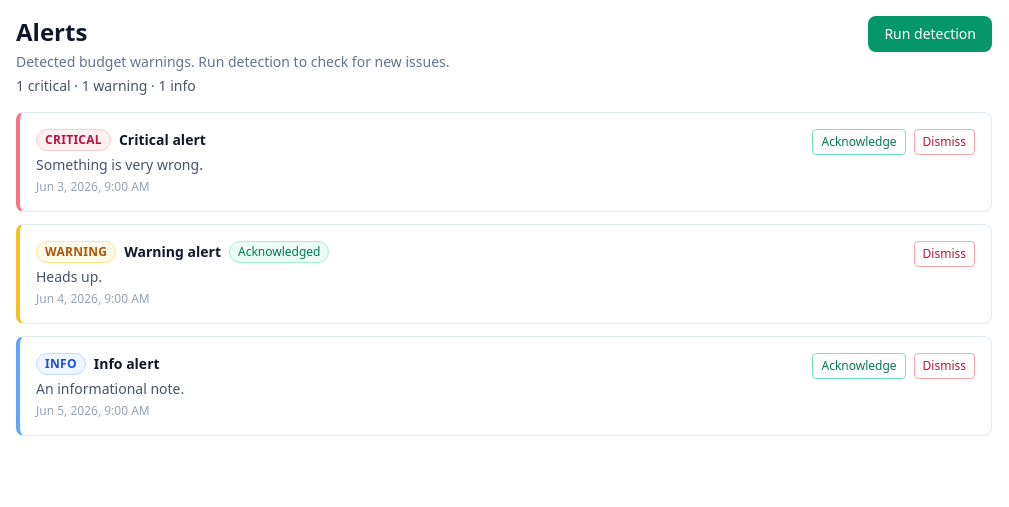
Test: AlertsPage › runs detection and surfaces the server count message
Click the button "Run detection" at point(930, 34), box [868,16,992,52]
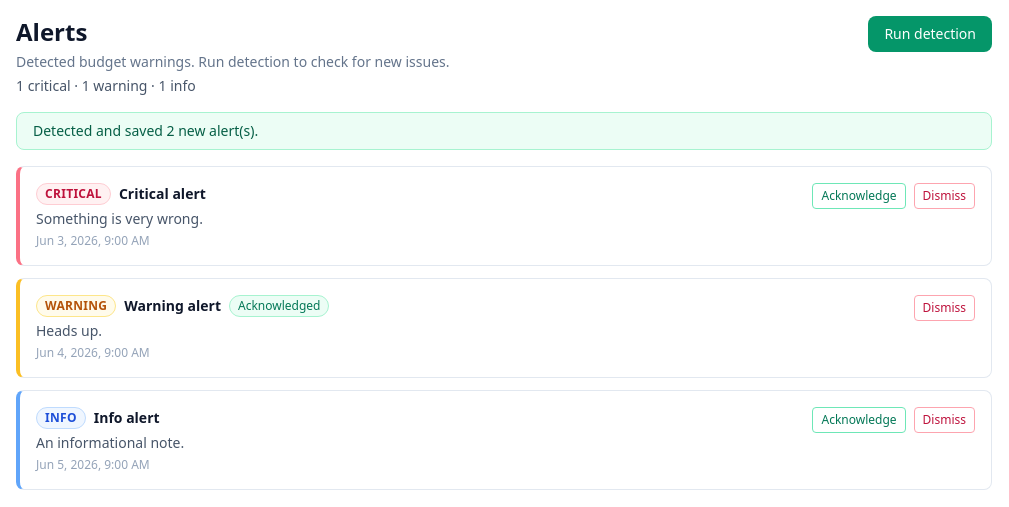
Result: the message reads "Detected and saved 2 new alert(s)." at [33,121,258,140]
